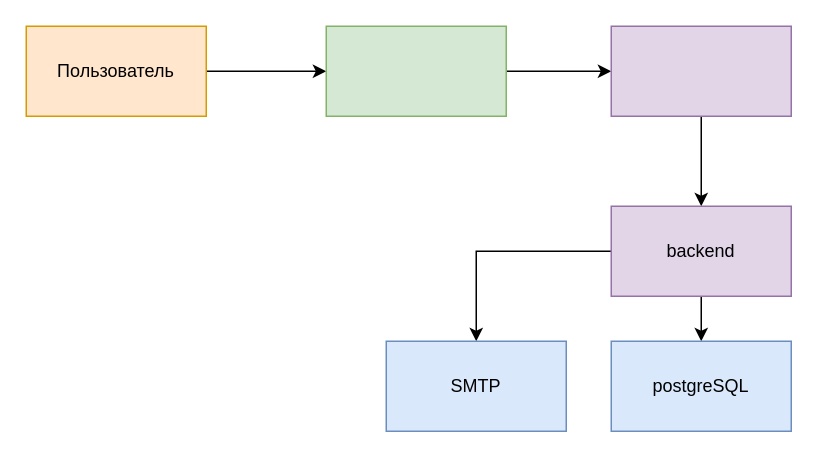
Image size: 818x458. Some labels were removed from this diagram. The box of each missing label's shape, as (x1, y1, x2, y2) in pixels:
fronted: (610, 25, 791, 116)
nginx: (325, 25, 506, 116)
